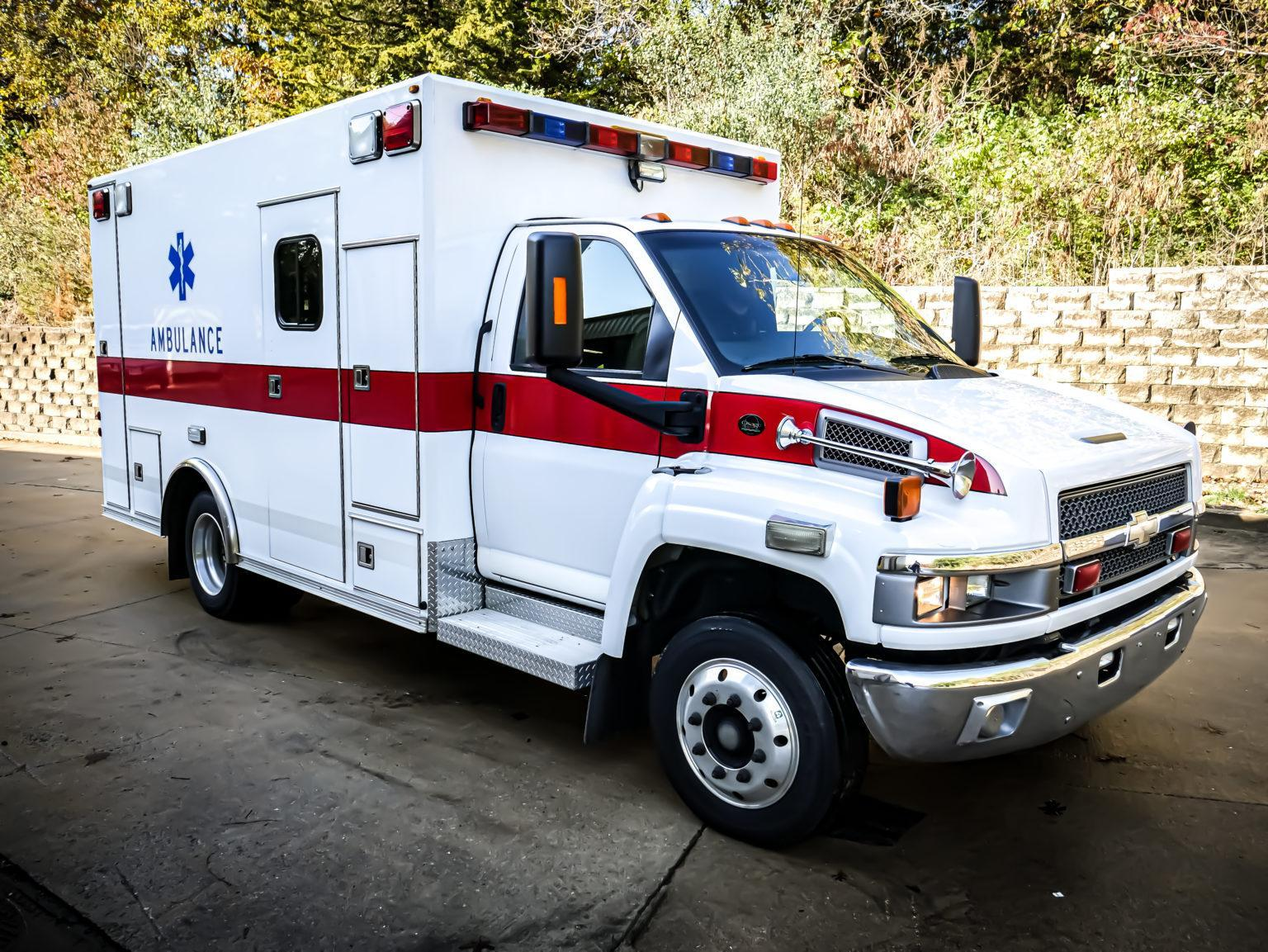Ambulance: (150, 222, 208, 309), (125, 320, 241, 362)
